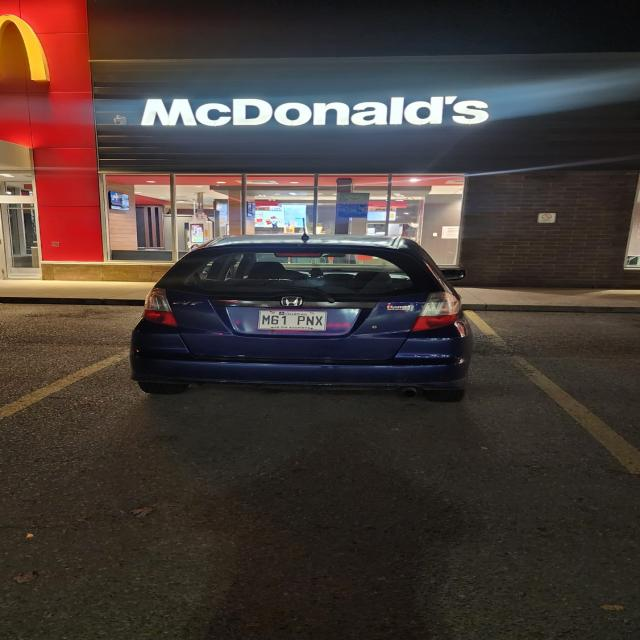plaque: (259, 311, 327, 331)
